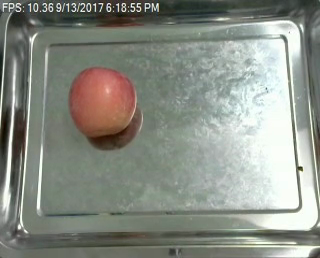Apple: (65, 64, 140, 143)
